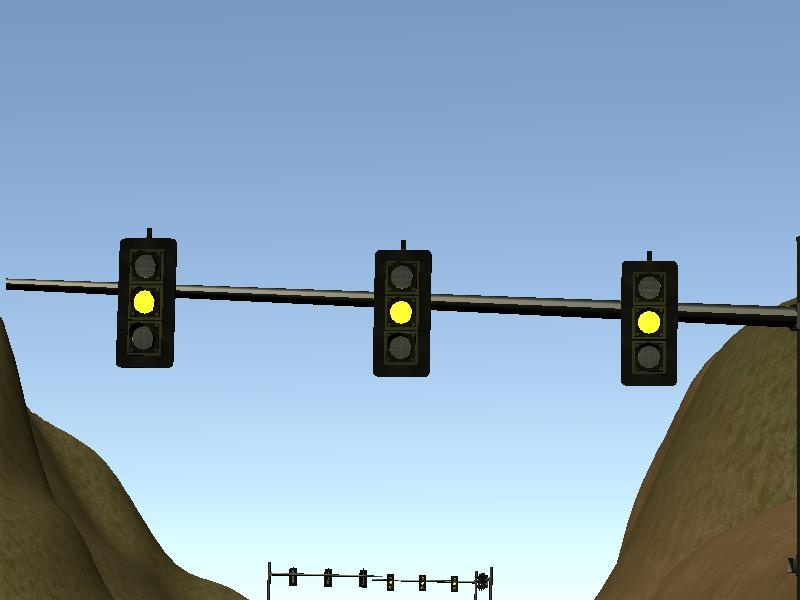YELLOW: (368, 240, 431, 379), (114, 228, 176, 369), (619, 250, 682, 385)
